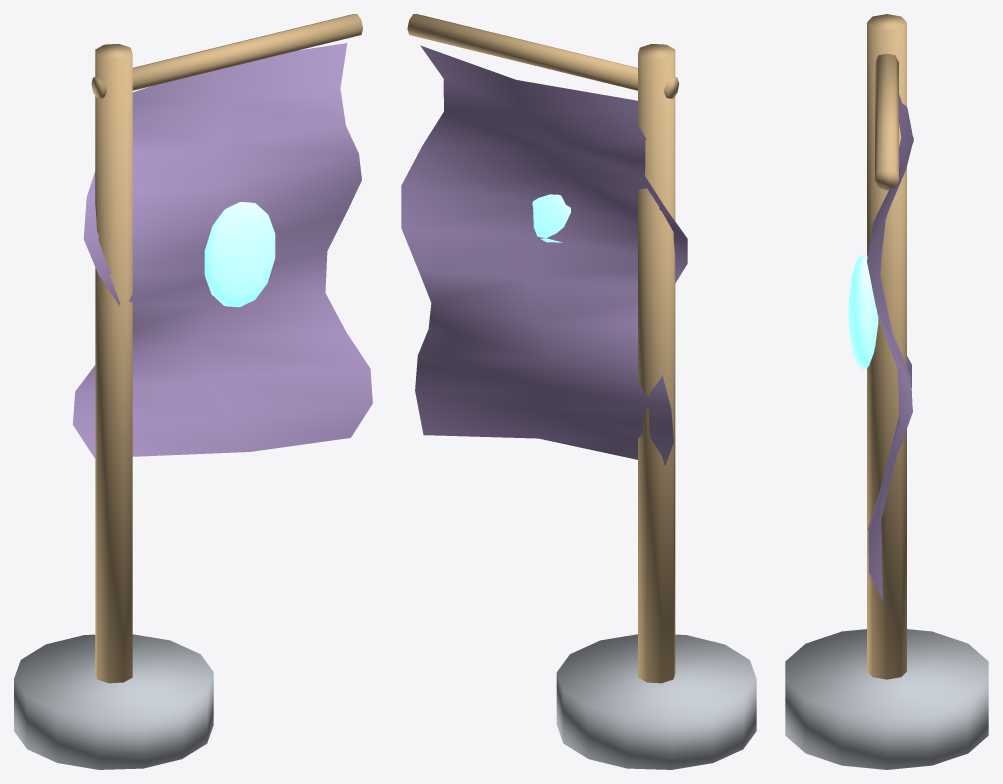
The model's file is way_feather_banner.glb.
3 views of the same model, side by side, from view 1: azimuth 30°, elevation 25°; view 2: azimuth 150°, elevation 25°; view 3: azimuth 270°, elevation 25° (orthographic). The views are drawn at different scales.
Parts seen in each view (by area): view 1: WAY_feather_banner_silk_banner, WAY_feather_banner_pole, WAY_feather_banner_base, WAY_feather_banner_sigil, WAY_feather_banner_crossbar; view 2: WAY_feather_banner_silk_banner, WAY_feather_banner_base, WAY_feather_banner_pole, WAY_feather_banner_crossbar, WAY_feather_banner_sigil; view 3: WAY_feather_banner_base, WAY_feather_banner_pole, WAY_feather_banner_silk_banner, WAY_feather_banner_crossbar, WAY_feather_banner_sigil.
Boxes of the visible parts, left/top/right/bottom form: WAY_feather_banner_silk_banner: left=72, top=43, right=372, bottom=458; WAY_feather_banner_pole: left=95, top=44, right=132, bottom=683; WAY_feather_banner_base: left=14, top=634, right=213, bottom=769; WAY_feather_banner_sigil: left=204, top=202, right=275, bottom=307; WAY_feather_banner_crossbar: left=91, top=14, right=362, bottom=98; WAY_feather_banner_silk_banner: left=401, top=45, right=687, bottom=465; WAY_feather_banner_base: left=556, top=634, right=756, bottom=769; WAY_feather_banner_pole: left=638, top=44, right=675, bottom=683; WAY_feather_banner_crossbar: left=407, top=14, right=679, bottom=98; WAY_feather_banner_sigil: left=532, top=194, right=570, bottom=242; WAY_feather_banner_base: left=785, top=629, right=988, bottom=769; WAY_feather_banner_pole: left=867, top=14, right=906, bottom=679; WAY_feather_banner_silk_banner: left=867, top=94, right=913, bottom=600; WAY_feather_banner_crossbar: left=875, top=53, right=898, bottom=190; WAY_feather_banner_sigil: left=848, top=255, right=878, bottom=369.
Size of the model in its own units: 1.21 by 2.31 by 0.6045.
